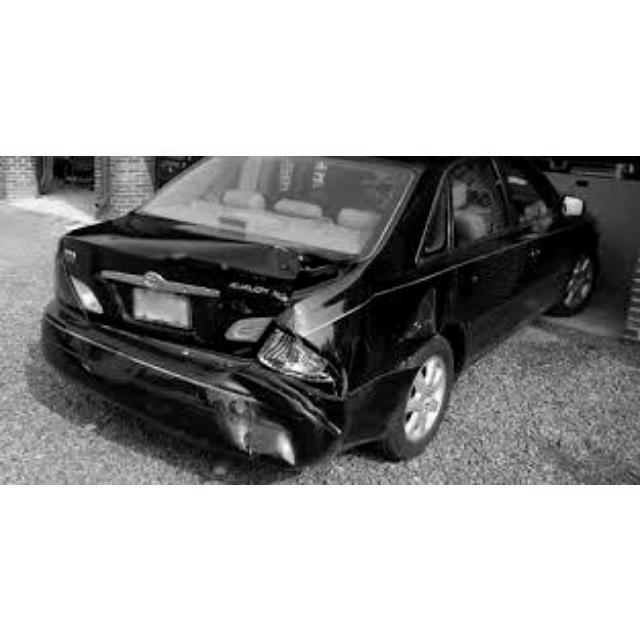Taillight-Damage: (262, 322, 343, 399)
boot-dent: (101, 227, 330, 327)
rear-bumper-dent: (88, 337, 276, 433)
